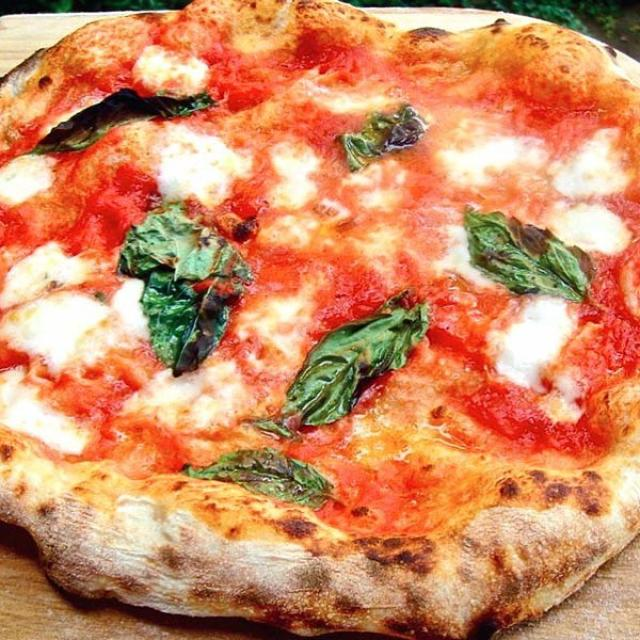basil: (251, 289, 438, 437), (119, 197, 256, 377), (462, 200, 598, 300), (31, 85, 217, 155), (180, 443, 330, 510), (335, 100, 429, 174)
pizza: (0, 0, 640, 640)
